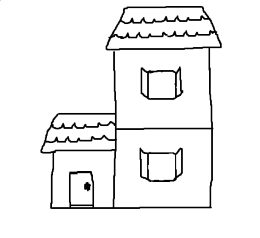door: (65, 166, 99, 211)
open_window: (137, 146, 183, 182), (138, 66, 184, 99)
roof: (105, 5, 222, 54), (40, 112, 117, 156)
wall: (110, 47, 216, 212), (48, 146, 118, 212)
